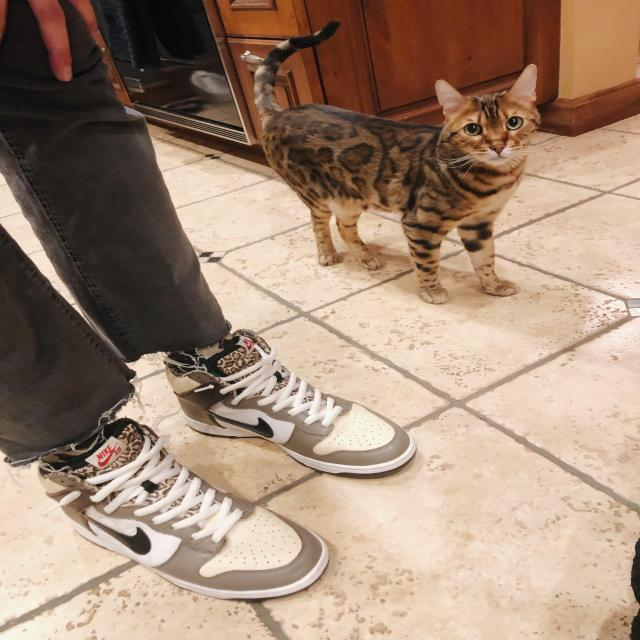shoe: (30, 411, 337, 605), (158, 327, 424, 484)
